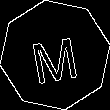M_N: (28, 26, 82, 84)
